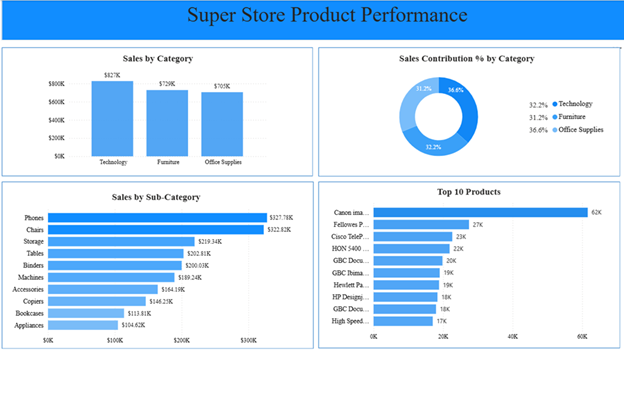

This screenshot's page, from the dashboard's own definition file:
{"tool":"powerbi","page":{"name":"Product Info","canvas":[1280,720],"ordinal":1},"visuals":[{"type":"shape","box":[4,0,1270,82],"z":0},{"type":"textbox","box":[360,0,616,82],"z":1000},{"type":"shape","box":[3.7,96.6,634.7,262.9],"z":2000},{"type":"shape","box":[3.7,370.5,635.9,341.2],"z":3000},{"type":"shape","box":[648.9,371.1,615.6,340],"z":4000},{"type":"shape","box":[648.9,96.7,615.6,263.3],"z":5000},{"type":"clusteredColumnChart","title":"Sales by Category","fields":{"Category":["train.Category"],"Y":["Sum(train.Sales)"]},"box":[94.2,108.8,456.1,237.2],"z":6000},{"type":"donutChart","title":"Sales Contribution % by Category","fields":{"Category":["train.Category"],"Y":["train.Category Sales %"]},"box":[658.9,108.9,586.7,237.8],"z":7000},{"type":"clusteredBarChart","title":"Sales by Sub-Category","fields":{"Category":["train.Sub-Category"],"Y":["Sum(train.Sales)"]},"box":[17.1,391.3,602.9,317.9],"z":8000},{"type":"clusteredBarChart","title":"Top 10 Products","fields":{"Category":["train.Product Name"],"Y":["Sum(train.Sales)"]},"box":[658.9,380,594.4,321.1],"z":9000},{"type":"cardVisual","fields":{"Data":["train.Sales %"],"Rows":["train.Category"]},"box":[1040,173.3,101.1,126.7],"z":10000}]}

Visuals, with their boxes on the page's 1280x720 design canvas (x1, y1, x2, y2). These are canvas units, not pixel positions in the 624x395 screenshot, which may show the page scaled, cropped or inside an application window:
shape: pyautogui.locateOnScreen(4, 0, 1274, 82)
textbox: pyautogui.locateOnScreen(360, 0, 976, 82)
shape: pyautogui.locateOnScreen(4, 97, 638, 360)
shape: pyautogui.locateOnScreen(4, 370, 640, 712)
shape: pyautogui.locateOnScreen(649, 371, 1264, 711)
shape: pyautogui.locateOnScreen(649, 97, 1264, 360)
"Sales by Category" clusteredColumnChart: pyautogui.locateOnScreen(94, 109, 550, 346)
"Sales Contribution % by Category" donutChart: pyautogui.locateOnScreen(659, 109, 1246, 347)
"Sales by Sub-Category" clusteredBarChart: pyautogui.locateOnScreen(17, 391, 620, 709)
"Top 10 Products" clusteredBarChart: pyautogui.locateOnScreen(659, 380, 1253, 701)
cardVisual - train.Sales % x train.Category: pyautogui.locateOnScreen(1040, 173, 1141, 300)
